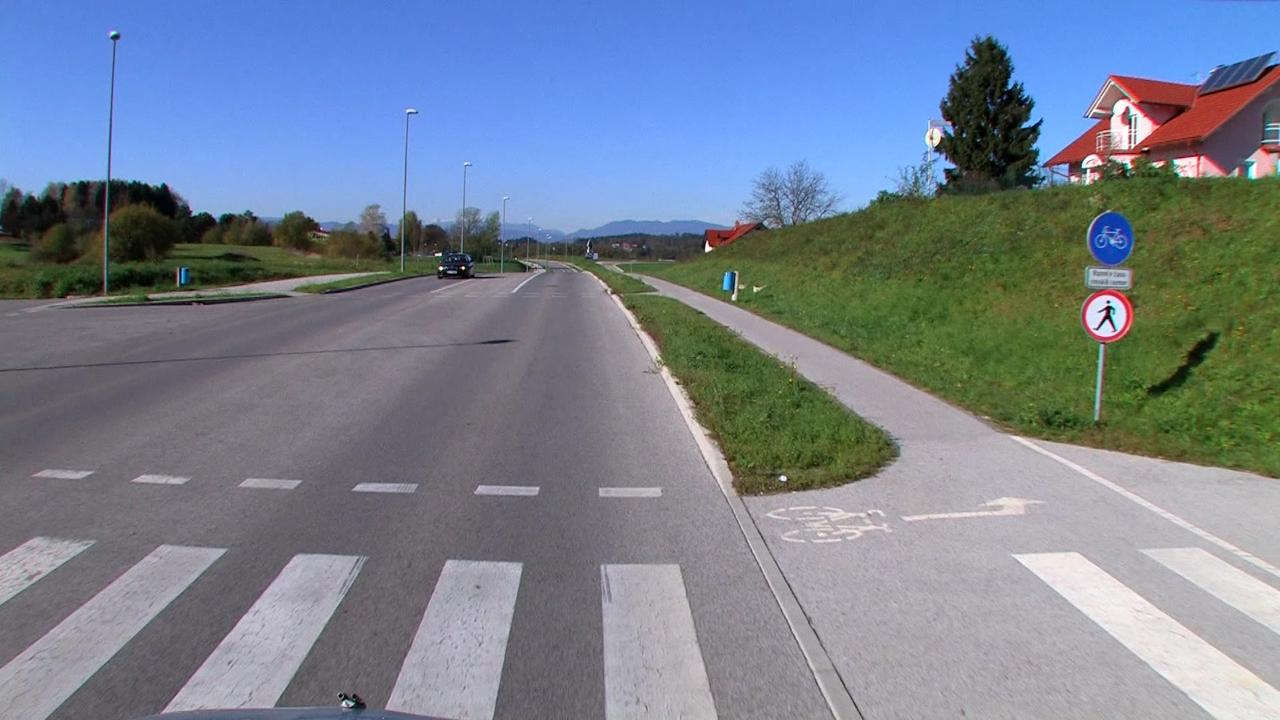Rectangle: (1086, 266, 1136, 288)
Round: (1082, 289, 1134, 341), (1087, 211, 1135, 265)
